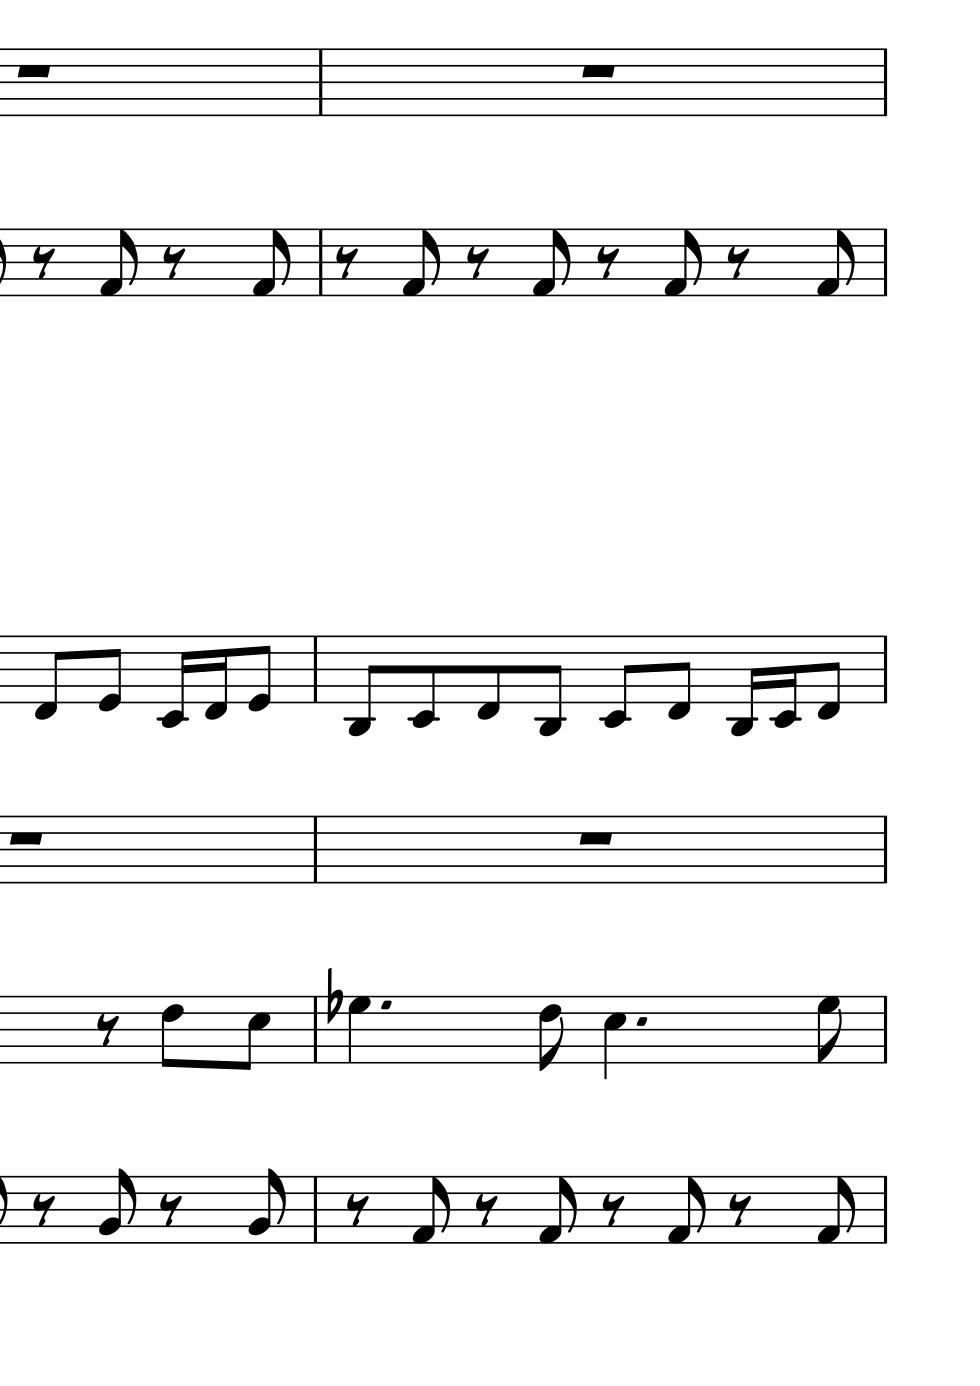16_-1: (203, 632, 230, 723)
16_-2: (157, 634, 192, 732), (768, 632, 799, 730)
16_-3: (727, 633, 762, 740)
4_5: (601, 994, 627, 1082)
4_7: (346, 994, 372, 1067)
8_-1: (32, 633, 66, 723), (473, 633, 502, 723), (815, 633, 843, 722), (665, 634, 692, 723)
8_-2: (598, 633, 638, 730), (406, 634, 439, 730)
8_-3: (344, 634, 379, 738), (533, 633, 564, 738)
8_0: (95, 633, 124, 714), (247, 632, 274, 713)
8_1: (536, 1175, 580, 1246), (665, 1174, 708, 1246), (813, 1175, 857, 1247), (399, 228, 442, 299), (661, 228, 704, 299), (97, 228, 139, 299), (409, 1175, 452, 1246), (813, 229, 856, 299), (250, 228, 292, 299), (530, 228, 572, 299)
8_2: (247, 1168, 286, 1246), (97, 1168, 136, 1245)
8_5: (237, 994, 272, 1073)
8_6: (536, 994, 563, 1072), (158, 994, 183, 1070)
8_7: (813, 994, 850, 1067)
Flat: (323, 965, 343, 1027)
Rests1: (5, 828, 47, 848), (575, 828, 616, 848), (577, 60, 619, 80), (12, 62, 54, 80)
Rests4: (160, 245, 187, 280)
Rests8: (30, 245, 57, 281), (594, 244, 622, 280), (463, 244, 490, 281), (343, 1192, 370, 1227), (725, 1192, 753, 1227), (599, 1192, 626, 1228), (724, 245, 751, 280), (30, 1192, 56, 1227), (472, 1192, 498, 1227), (333, 245, 358, 280), (157, 1192, 182, 1227), (95, 1013, 120, 1047)
Single_barline: (875, 634, 893, 703), (876, 815, 894, 883), (311, 229, 329, 295), (307, 636, 323, 703), (307, 997, 323, 1062), (307, 1177, 323, 1242), (877, 49, 893, 116), (877, 995, 893, 1062), (308, 815, 322, 882), (313, 50, 328, 115), (877, 230, 892, 295), (877, 1177, 892, 1242)
dot: (375, 997, 393, 1011), (634, 1013, 649, 1028)
